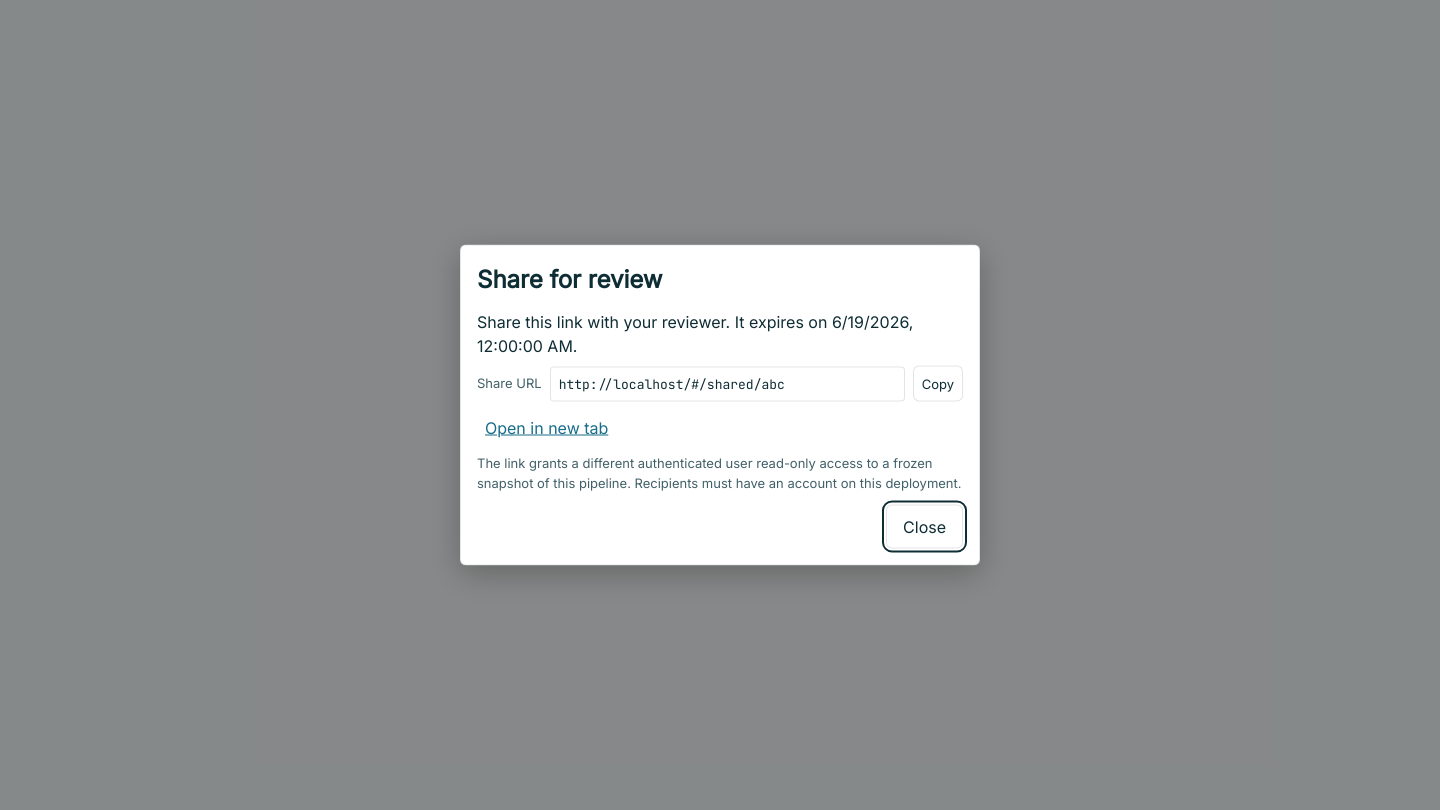
Test: SaveForReviewDialog › copy button surfaces failure when clipboard API is unavailable
Click the button with test id "save-for-review-copy". click: (938, 384)
box: [913,366,963,402]
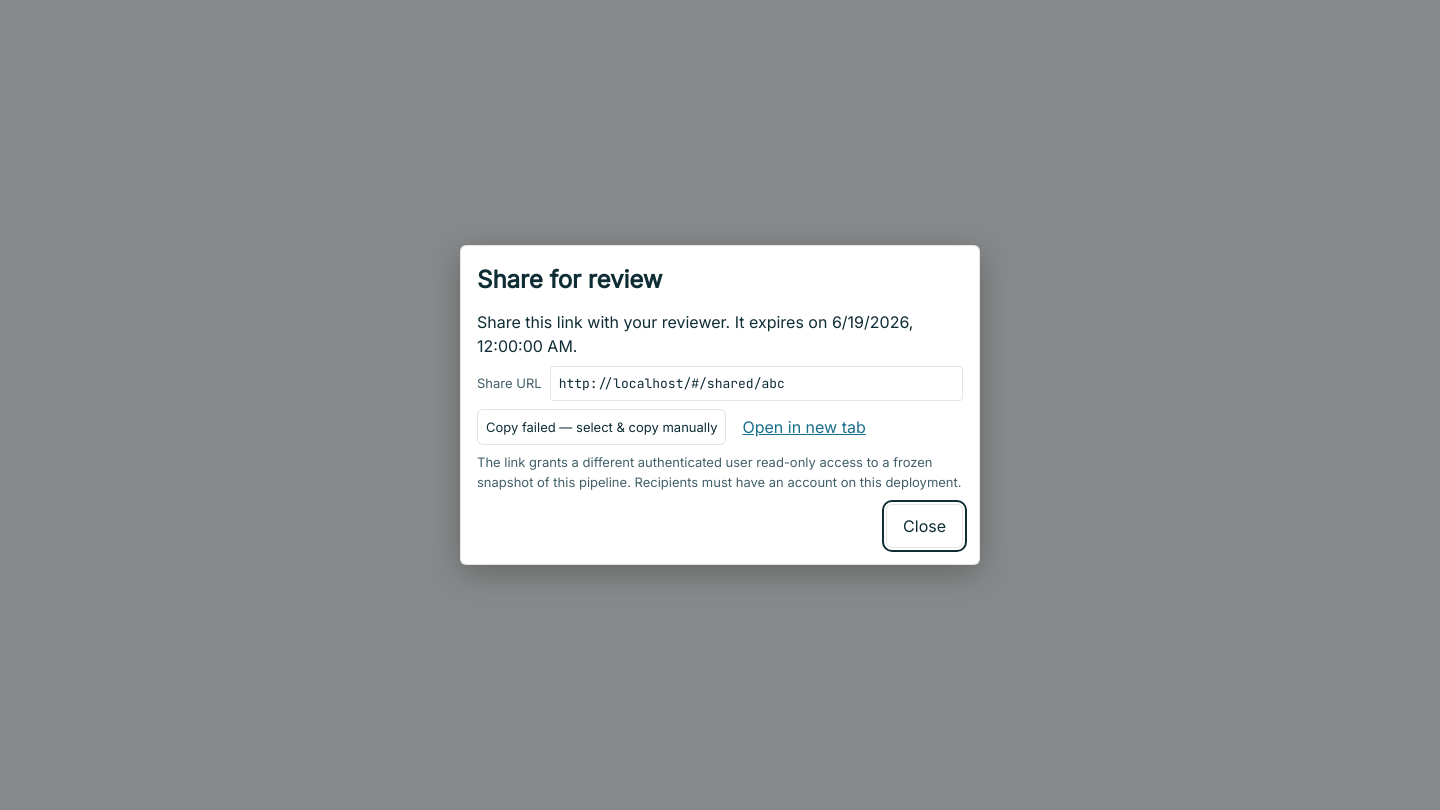
Expected: the button with test id "save-for-review-copy" shows "Copy failed", [477,409,726,445]
